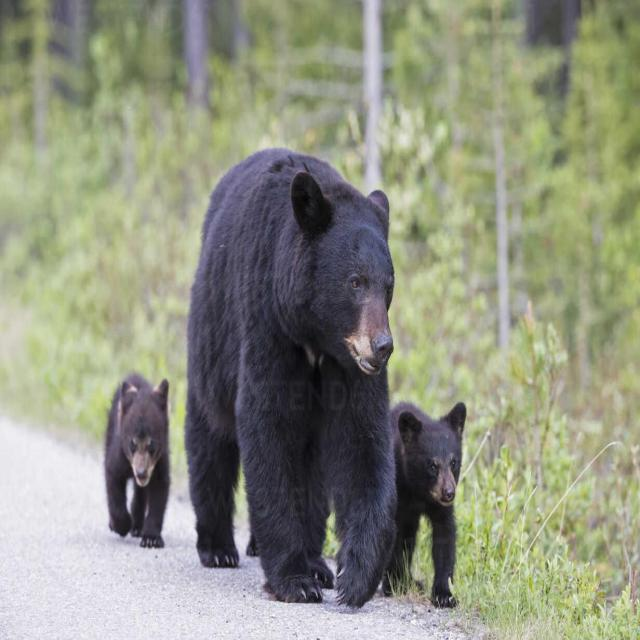Bear: (183, 148, 401, 613), (389, 404, 465, 610), (103, 375, 171, 551)
